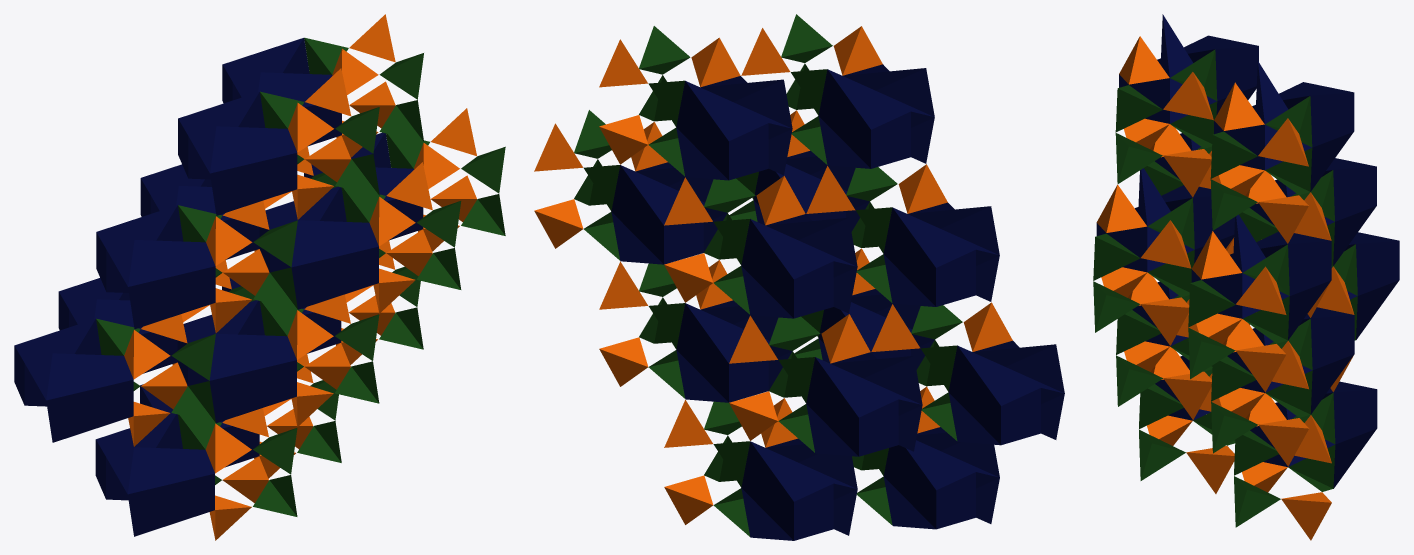
File: Feldspato.obj
The picture shows the model from 3 angles, left to right: view 1: azimuth 30°, elevation 25°; view 2: azimuth 150°, elevation 25°; view 3: azimuth 270°, elevation 25°; orthographic projection. The views are drawn at different scales.
Parts seen in each view (by area): view 1: Feldspato_Solid.778_Coordenacao_8, Feldspato_Solid.778_tetraedros_Al, Feldspato_Solid.778_tetraedros; view 2: Feldspato_Solid.778_Coordenacao_8, Feldspato_Solid.778_tetraedros, Feldspato_Solid.778_tetraedros_Al; view 3: Feldspato_Solid.778_Coordenacao_8, Feldspato_Solid.778_tetraedros_Al, Feldspato_Solid.778_tetraedros.
Part boxes in pixels (left/top/right/bottom): Feldspato_Solid.778_Coordenacao_8: left=14, top=38, right=423, bottom=536; Feldspato_Solid.778_tetraedros_Al: left=124, top=14, right=476, bottom=540; Feldspato_Solid.778_tetraedros: left=96, top=37, right=505, bottom=516; Feldspato_Solid.778_Coordenacao_8: left=611, top=64, right=1064, bottom=540; Feldspato_Solid.778_tetraedros: left=574, top=14, right=962, bottom=536; Feldspato_Solid.778_tetraedros_Al: left=534, top=26, right=1012, bottom=524; Feldspato_Solid.778_Coordenacao_8: left=1096, top=14, right=1399, bottom=488; Feldspato_Solid.778_tetraedros_Al: left=1096, top=36, right=1354, bottom=540; Feldspato_Solid.778_tetraedros: left=1093, top=49, right=1357, bottom=527.
Bounding box in the file's own units: 1.72 × 1.54 × 0.9286.
